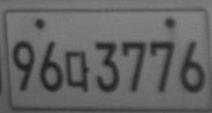3: (95, 42, 119, 92)
6: (178, 41, 205, 93), (39, 41, 63, 92)
7: (149, 41, 174, 91), (122, 41, 146, 92)
9: (11, 39, 35, 92)
다: (65, 49, 90, 91)
